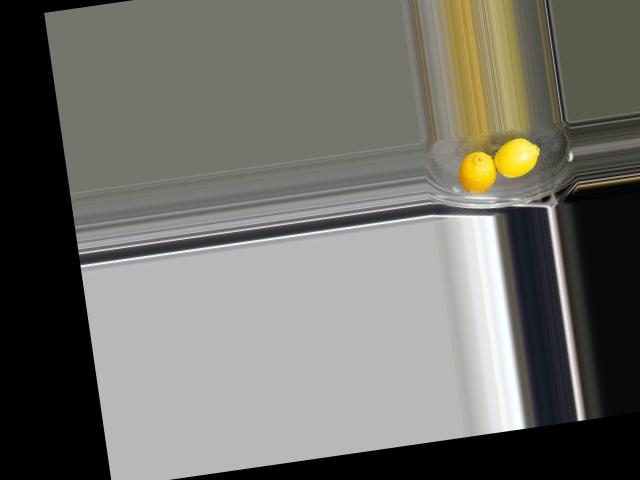lemon: (487, 136, 546, 182)
